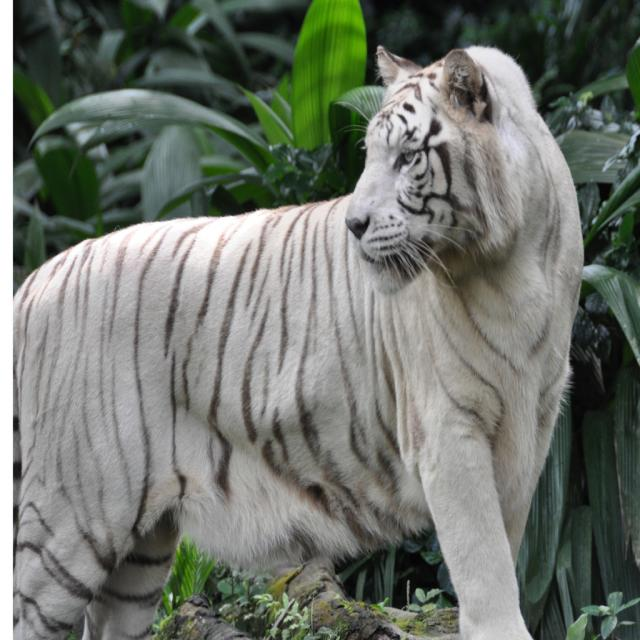Tiger: (12, 38, 585, 640)
